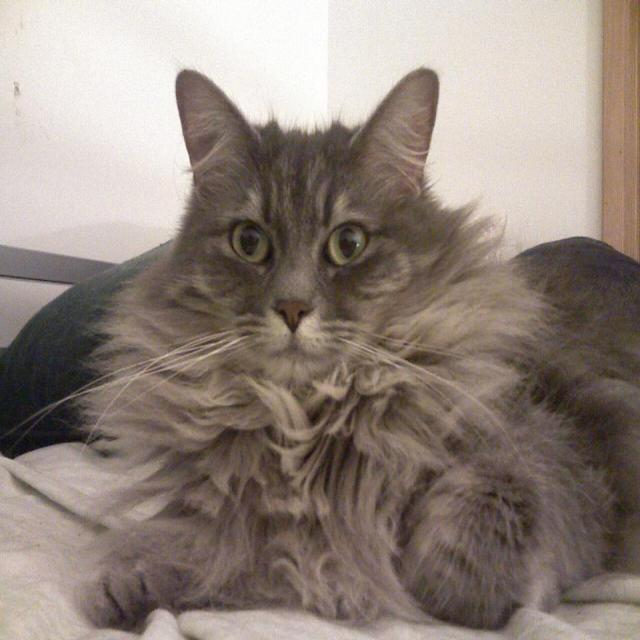Cat: (0, 62, 639, 627)
